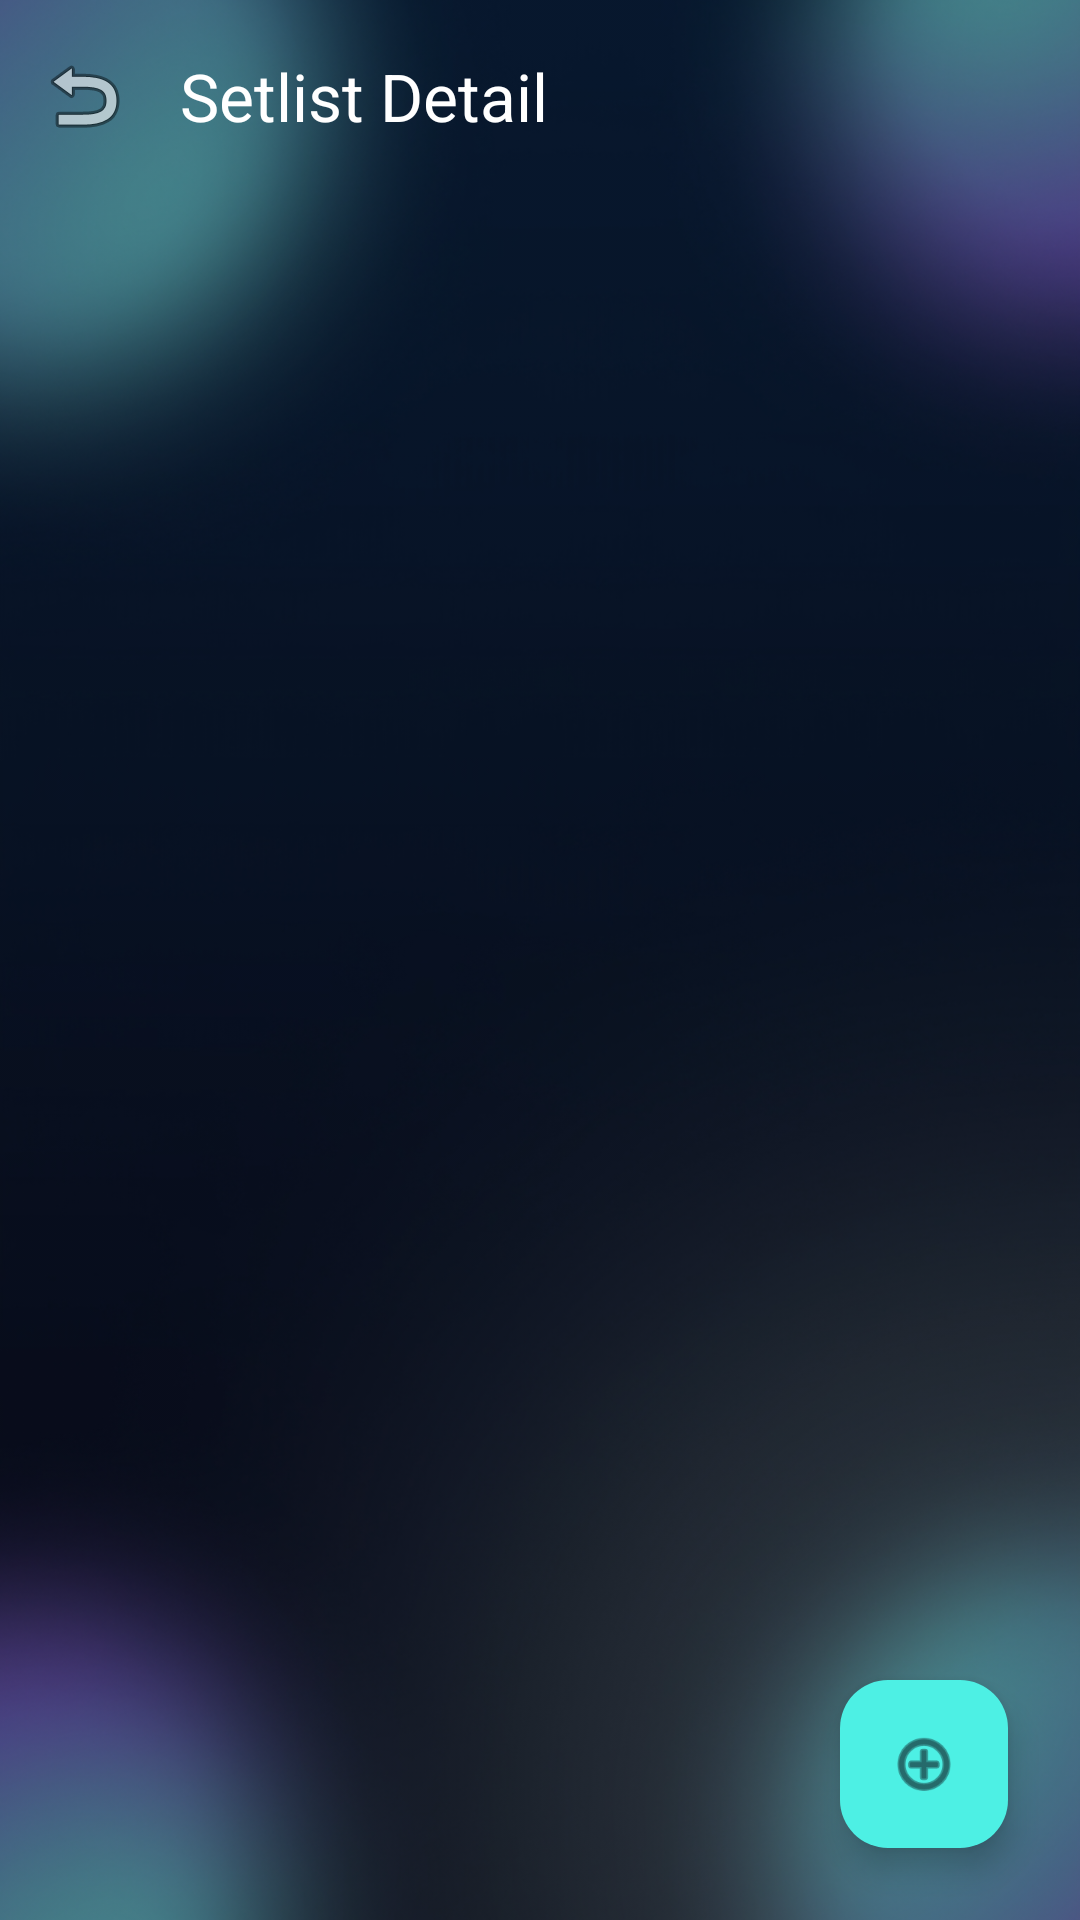

Icons on this 1080 × 1920 Android screen, each with the point to tap as (x=x, y=y):
Add song to setlist: (x=924, y=1764)
